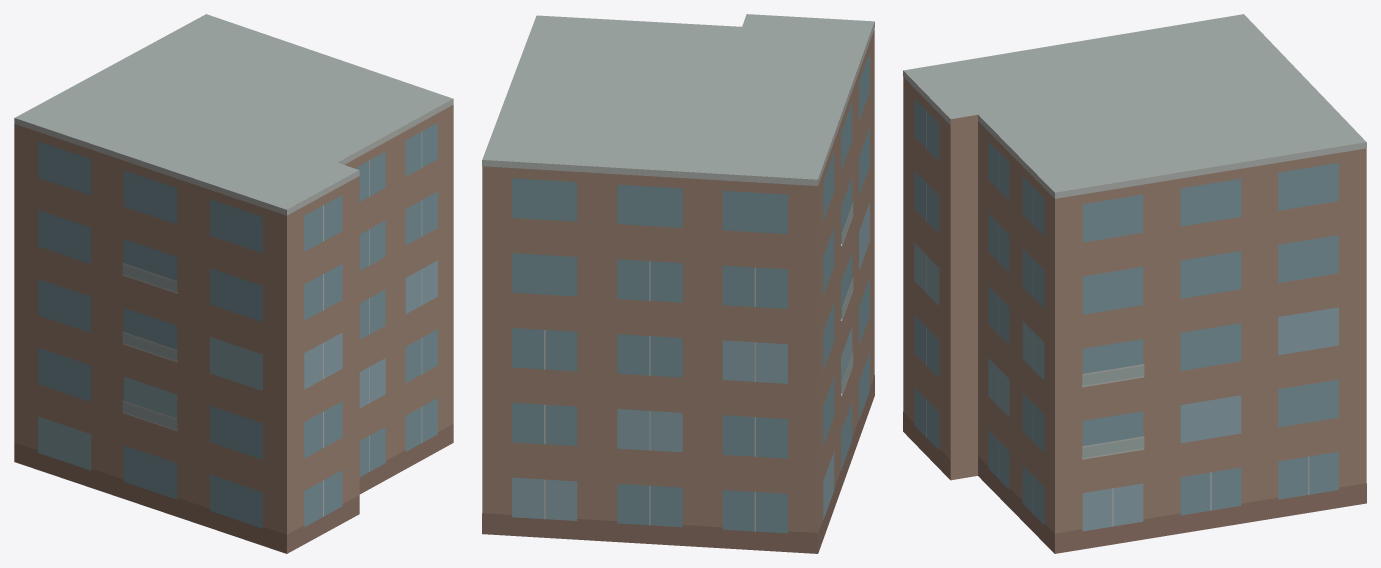
Rendered from survey-upis-32862824.glb.
3 renders of one model, left to right at view 1: azimuth 30°, elevation 25°; view 2: azimuth 150°, elevation 25°; view 3: azimuth 270°, elevation 25°, orthographic. The views are drawn at different scales.
Visible parts, largest first — view 1: survey-upis-32862824.tmp; view 2: survey-upis-32862824.tmp; view 3: survey-upis-32862824.tmp.
Part boxes in pixels (bbox=[...]): survey-upis-32862824.tmp: bbox=[14, 14, 453, 553]; survey-upis-32862824.tmp: bbox=[482, 14, 874, 553]; survey-upis-32862824.tmp: bbox=[903, 14, 1366, 553].
Size of the model in its own units: 15.19 by 14.3 by 16.65.
